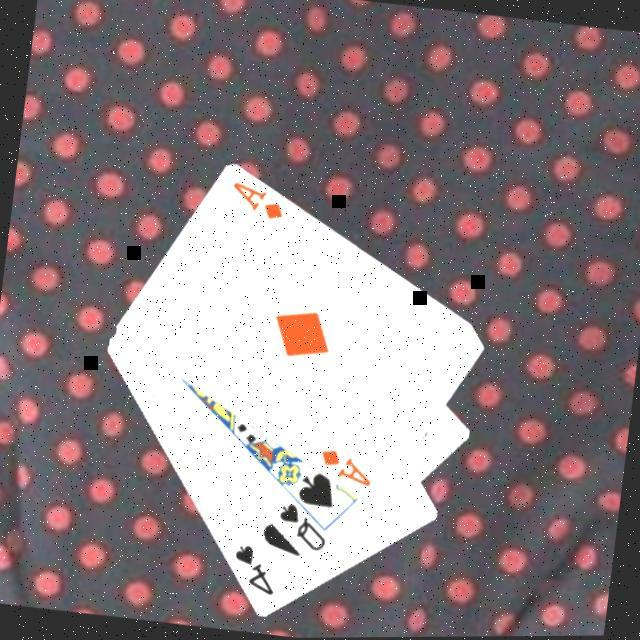4S: (225, 541, 281, 601)
AD: (313, 446, 377, 493), (224, 179, 288, 226)
QS: (270, 501, 332, 558)
